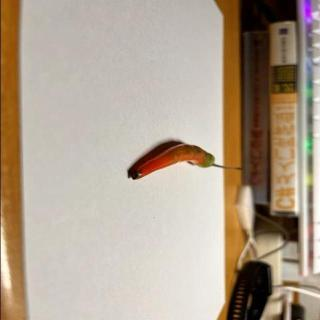Cabai Merah: (130, 144, 245, 182)
